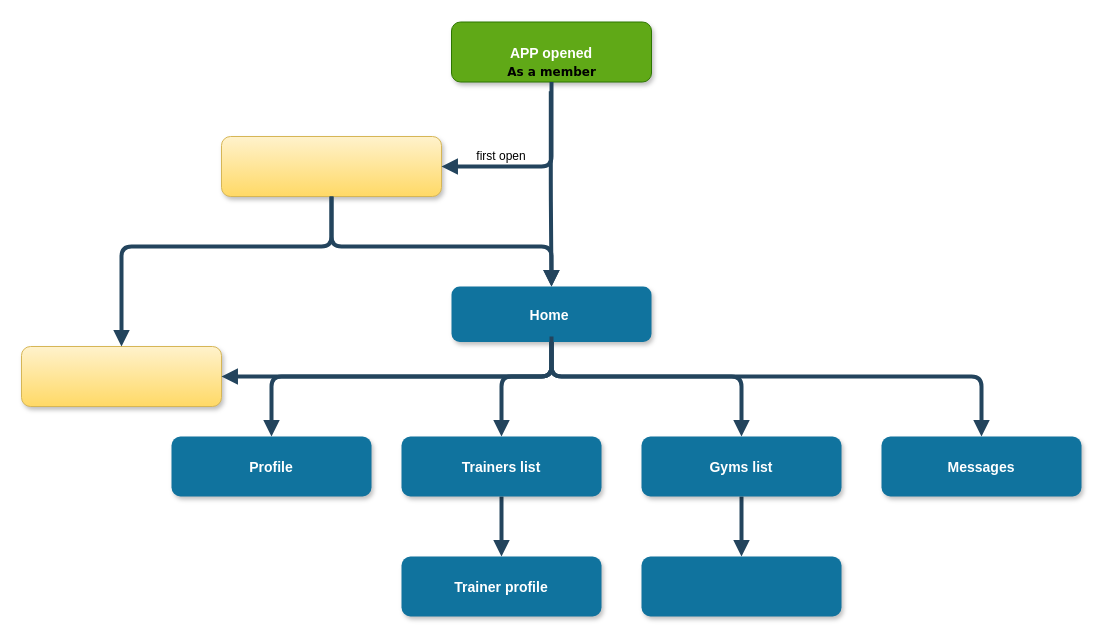
This 1105x640 diagram has some shape labels left out. The centre of each missing label's shape, as x and y in pixels:
Authentication: point (122, 378)
Gim profile: point (742, 587)
Onboarding: point (332, 168)
